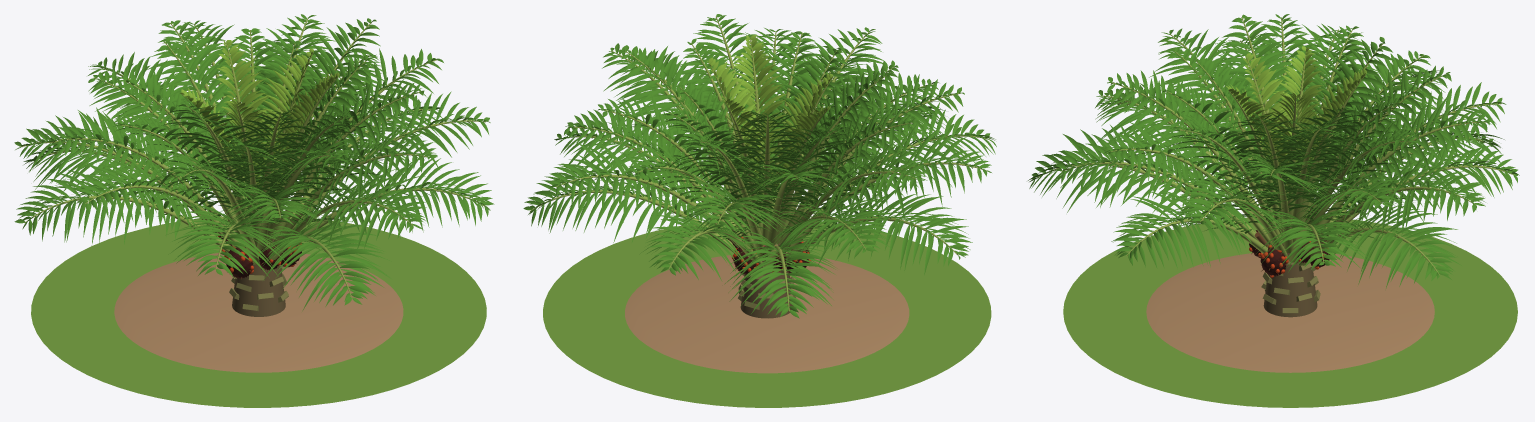
File: kelapa-sawit-tm1.glb
The picture shows the model from 3 angles, left to right: view 1: azimuth 30°, elevation 25°; view 2: azimuth 150°, elevation 25°; view 3: azimuth 270°, elevation 25°; orthographic projection.
Visible parts, largest first — view 1: rumput, piringan, anak_daun_41, anak_daun_39, anak_daun_36, anak_daun_31, anak_daun_38, anak_daun_33, anak_daun_30, anak_daun_26, anak_daun_34, anak_daun_22 (+38 smaller); view 2: rumput, piringan, anak_daun_42, anak_daun_39, anak_daun_40, anak_daun_32, anak_daun_34, anak_daun_37, anak_daun_31, anak_daun_26, anak_daun_23, anak_daun_29 (+43 smaller); view 3: rumput, piringan, anak_daun_40, anak_daun_38, anak_daun_33, anak_daun_32, anak_daun_41, anak_daun_35, anak_daun_30, anak_daun_24, anak_daun_37, anak_daun_25 (+44 smaller).
Boxes of the visible parts, <box> form: rumput: <box>31,216,486,407</box>; piringan: <box>114,253,403,372</box>; anak_daun_41: <box>260,215,390,311</box>; anak_daun_39: <box>14,156,197,245</box>; anak_daun_36: <box>167,204,287,277</box>; anak_daun_31: <box>71,152,223,232</box>; anak_daun_38: <box>321,156,494,238</box>; anak_daun_33: <box>291,169,426,248</box>; anak_daun_30: <box>316,91,490,202</box>; anak_daun_26: <box>53,110,213,205</box>; anak_daun_34: <box>14,107,194,209</box>; anak_daun_22: <box>298,48,443,182</box>; rumput: <box>543,221,991,407</box>; piringan: <box>625,255,909,373</box>; anak_daun_42: <box>724,232,837,318</box>; anak_daun_39: <box>812,185,972,274</box>; anak_daun_40: <box>523,154,701,242</box>; anak_daun_32: <box>549,142,708,226</box>; anak_daun_34: <box>772,183,895,264</box>; anak_daun_37: <box>640,202,754,281</box>; anak_daun_31: <box>820,123,991,220</box>; anak_daun_26: <box>797,140,927,219</box>; anak_daun_23: <box>813,74,964,193</box>; anak_daun_29: <box>678,178,791,234</box>; rumput: <box>1063,217,1517,407</box>; piringan: <box>1146,253,1434,372</box>; anak_daun_40: <box>1325,198,1461,288</box>; anak_daun_38: <box>1111,190,1252,268</box>; anak_daun_33: <box>1055,129,1228,217</box>; anak_daun_32: <box>1332,153,1485,236</box>; anak_daun_41: <box>1028,125,1216,225</box>; anak_daun_35: <box>1256,207,1370,272</box>; anak_daun_30: <box>1167,174,1290,235</box>; anak_daun_24: <box>1337,95,1492,202</box>; anak_daun_37: <box>1353,128,1519,221</box>; anak_daun_25: <box>1103,122,1247,215</box>.
Bounding box in the file's own units: 6.81 × 3.88 × 6.96.
